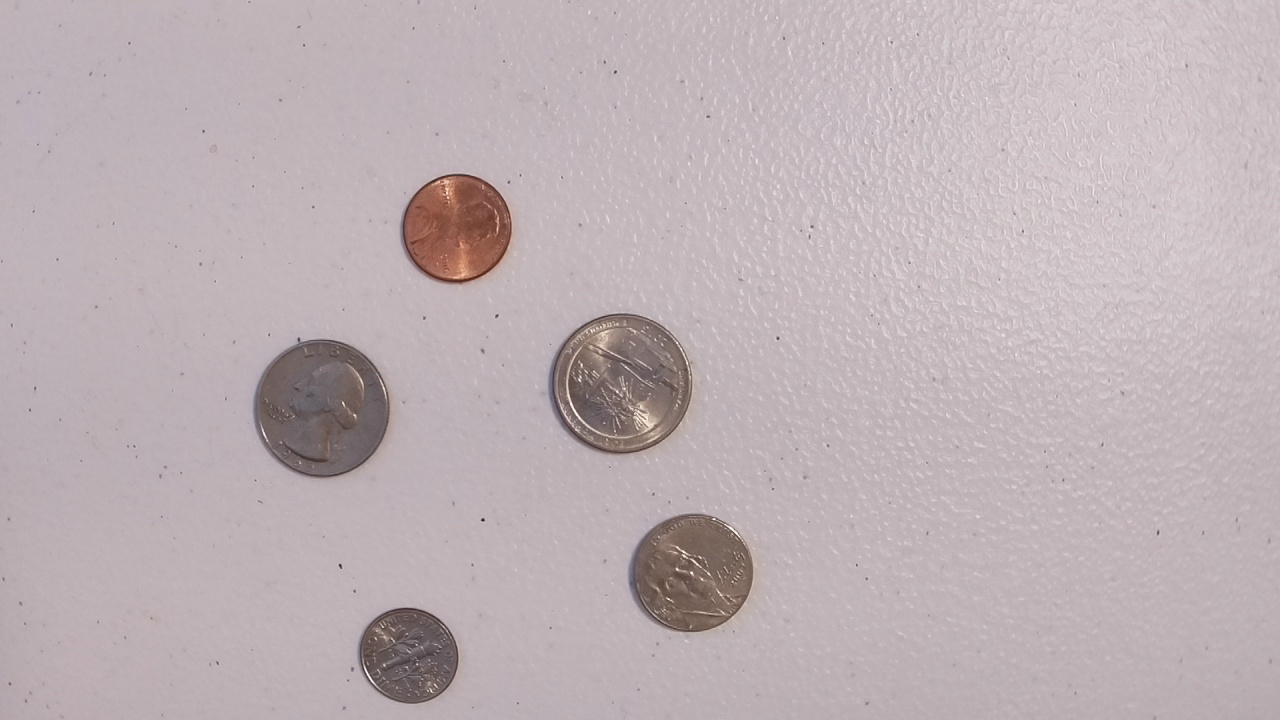dime: (354, 604, 464, 706)
nickel: (624, 508, 758, 638)
penny: (398, 170, 516, 284)
quarter: (549, 308, 695, 456), (250, 338, 394, 480)
